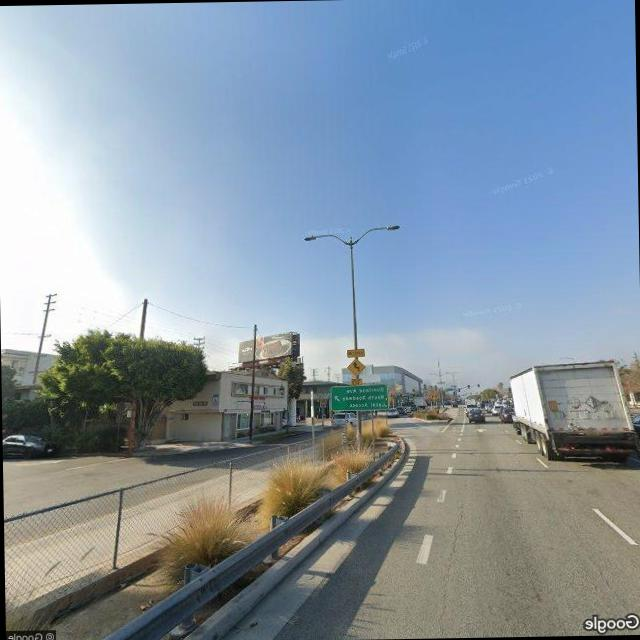pothole: (432, 502, 468, 636)
